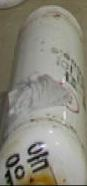cylinder: (1, 1, 87, 186)
